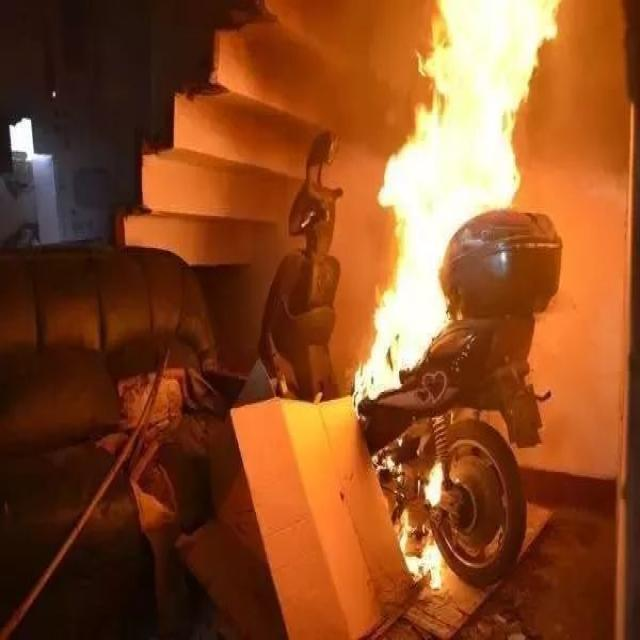Fire: (374, 0, 556, 210), (353, 211, 464, 399), (400, 524, 442, 590), (422, 462, 446, 512)
